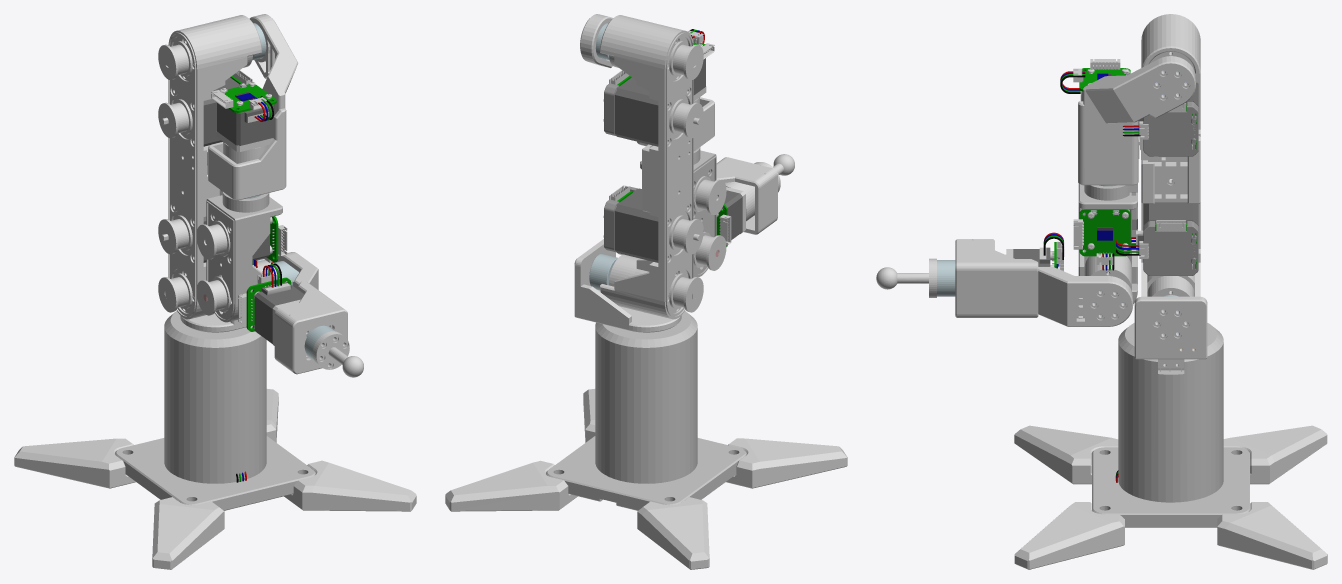
Rendered from ZERO_ARM_assembly.3dxml.glb.
3 views of the same model, side by side, from view 1: azimuth 30°, elevation 25°; view 2: azimuth 150°, elevation 25°; view 3: azimuth 270°, elevation 25° (orthographic). The views are drawn at different scales.
Visible parts, largest first — view 1: world; view 2: world; view 3: world.
Part boxes in pixels (bbox=[...]): world: bbox=[14, 14, 416, 569]; world: bbox=[445, 14, 847, 569]; world: bbox=[876, 14, 1327, 569].
Size of the model in its own units: 0.2376 by 0.3965 by 0.3423.
